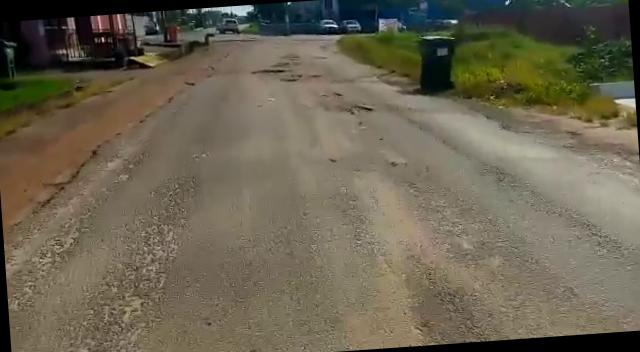pothole: (333, 101, 378, 117), (254, 64, 292, 74)
